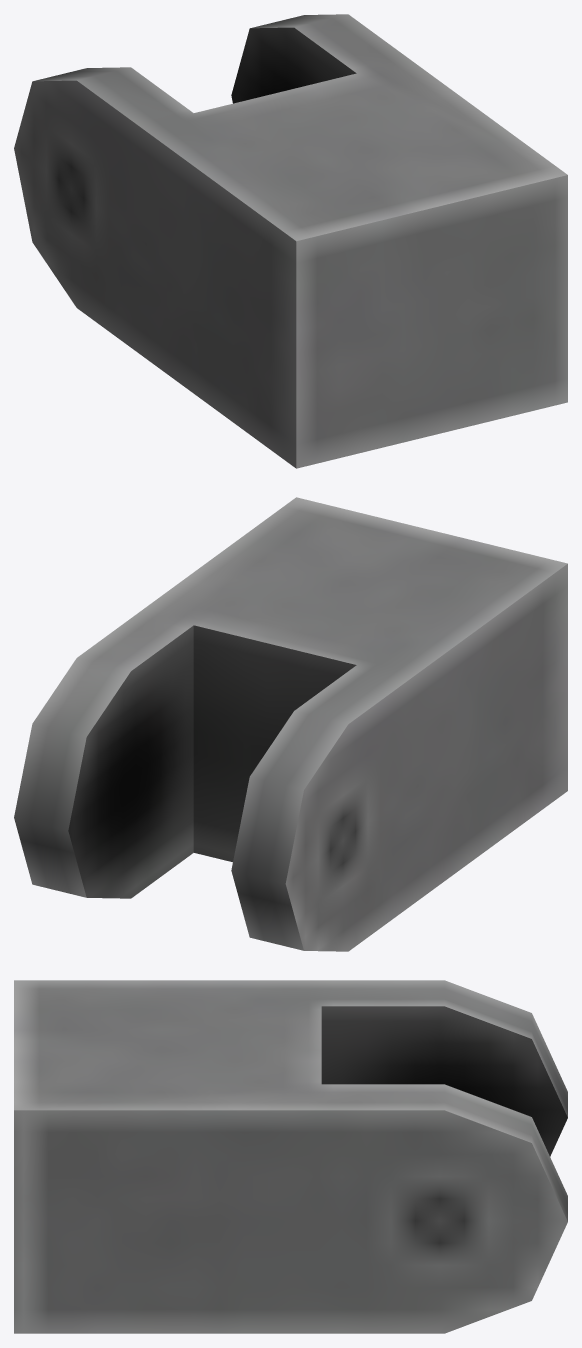
Rendered from armbase.obj.
3 views of the same model, one above another, from view 1: azimuth 30°, elevation 25°; view 2: azimuth 150°, elevation 25°; view 3: azimuth 270°, elevation 25° (orthographic).
Visible parts, largest first — view 1: 1; view 2: 1; view 3: 1.
Part boxes in pixels (x1,y1,x2,y2): 1: (14,14,567,468); 1: (14,497,567,951); 1: (14,980,567,1333).
Bounding box in the file's own units: 0.0625 × 0.05 × 0.1125.
1 material, 1 textured.
